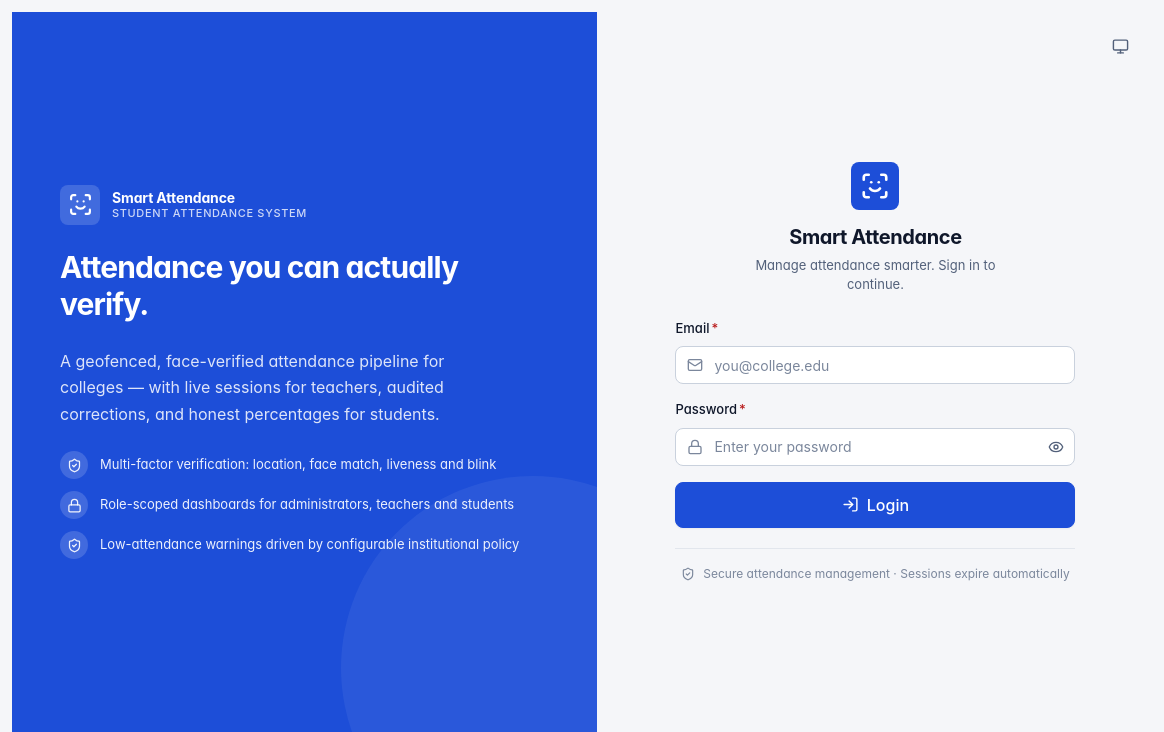
LoginPage › sends an admin to the admin dashboard
Step 1. Type "admin@ssams.dev" into the field labelled "Email*" → (876, 365), box [676,346,1076,384]
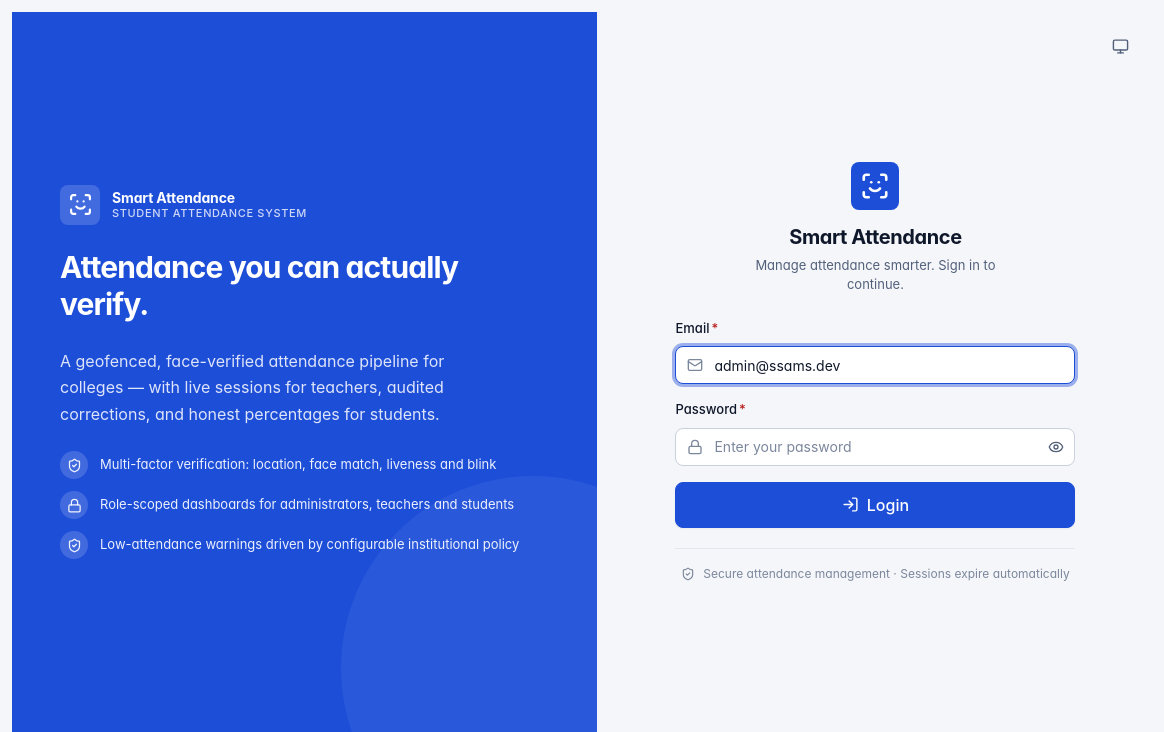
Step 2. Type "DevPass#2026" into the password field labelled "Password*" → (876, 446), box [676,428,1076,466]
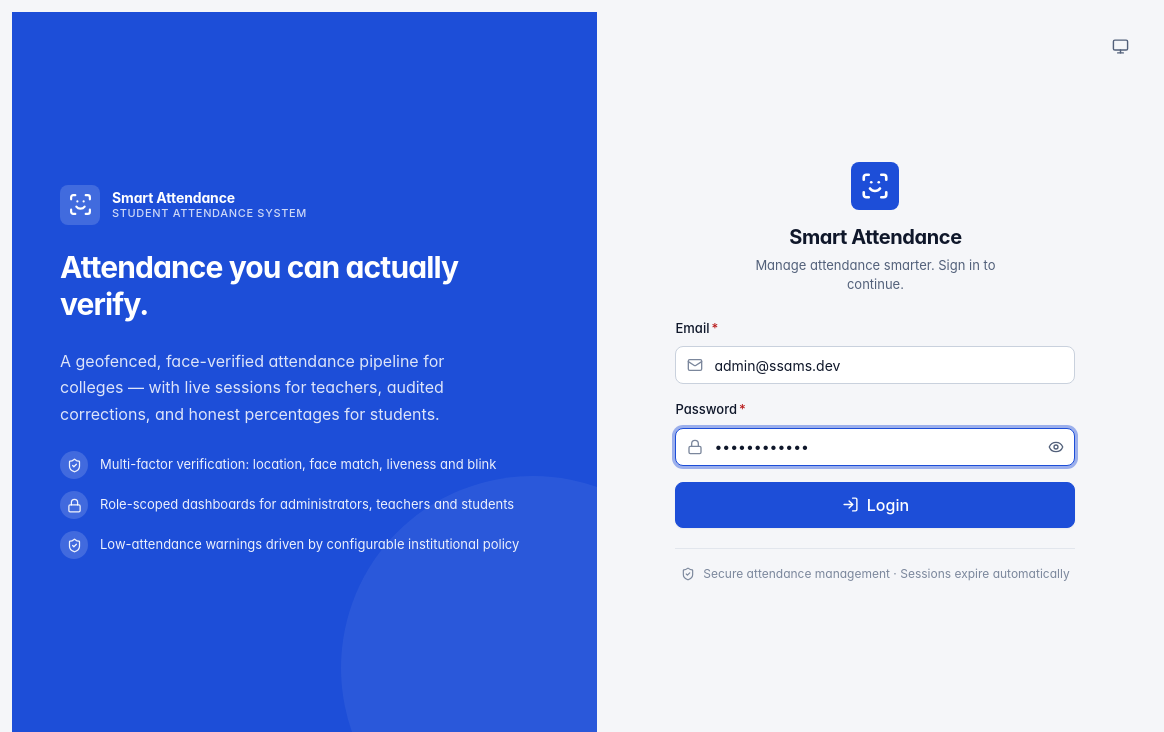
Step 3. Click the button "Login" → (876, 504), box [676,482,1076,528]
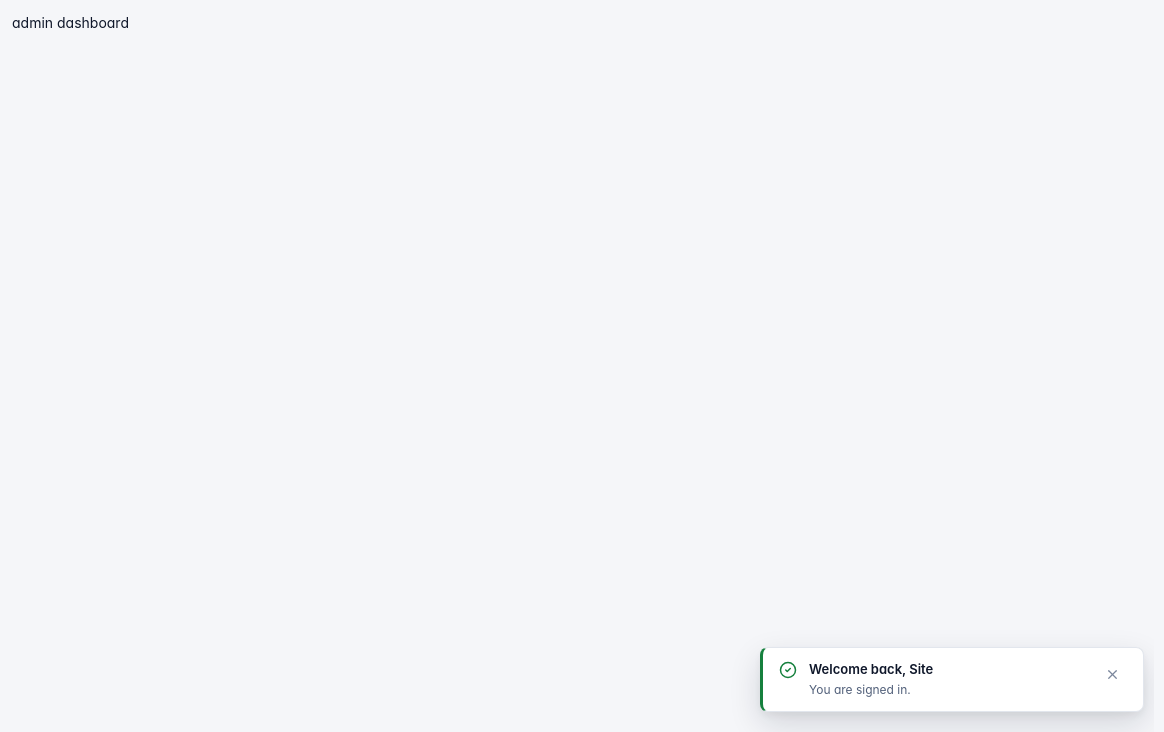
Check: the text "admin dashboard" is shown, box [12,14,129,31]
